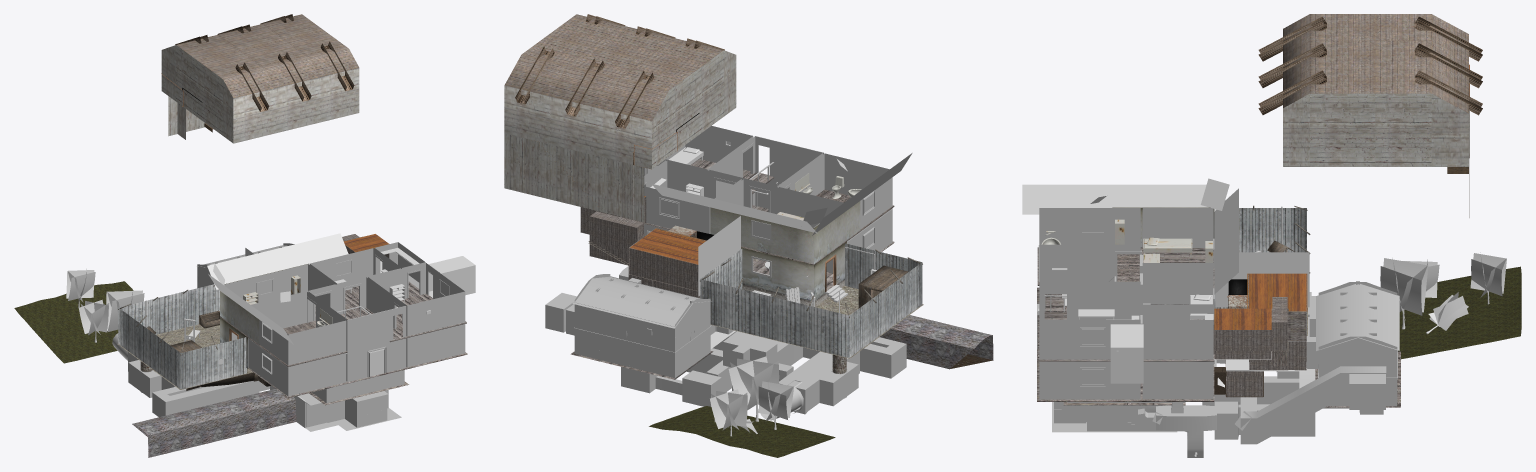
3 views of the same model, side by side, from view 1: azimuth 30°, elevation 25°; view 2: azimuth 150°, elevation 25°; view 3: azimuth 270°, elevation 25° (orthographic). The views are drawn at different scales.
Visible parts, largest first — view 1: Combined_Mesh (root: scene) 12_13, Combined_Mesh (root: scene) 6_7, Combined_Mesh (root: scene) 18_1, Combined_Mesh (root: scene) 24_1, Combined_Mesh (root: scene) 12_9, Combined_Mesh (root: scene) 10_0, Combined_Mesh (root: scene) 23_4, Combined_Mesh (root: scene) 12_7, Combined_Mesh (root: scene) 8_17, Combined_Mesh (root: scene) 8_8, Combined_Mesh (root: scene) 12_4, Combined_Mesh (root: scene) 12_3 (+6 smaller); view 2: Combined_Mesh (root: scene) 6_7, Combined_Mesh (root: scene) 18_1, Combined_Mesh (root: scene) 12_13, Combined_Mesh (root: scene) 24_0, Combined_Mesh (root: scene) 10_0, Combined_Mesh (root: scene) 8_5, Combined_Mesh (root: scene) 12_9, Combined_Mesh (root: scene) 24_1, Combined_Mesh (root: scene) 23_4, Combined_Mesh (root: scene) 12_2, Combined_Mesh (root: scene) 23_3, Combined_Mesh (root: scene) 8_17 (+5 smaller); view 3: Combined_Mesh (root: scene) 6_7, Combined_Mesh (root: scene) 12_13, Combined_Mesh (root: scene) 10_0, Combined_Mesh (root: scene) 8_5, Combined_Mesh (root: scene) 24_0, Combined_Mesh (root: scene) 12_9, Combined_Mesh (root: scene) 23_1, Combined_Mesh (root: scene) 8_17, Combined_Mesh (root: scene) 18_1, Combined_Mesh (root: scene) 12_7, Combined_Mesh (root: scene) 23_4, Combined_Mesh (root: scene) 8_8 (+7 smaller).
Boxes of the visible parts, x1,y1,x2,y2 form: Combined_Mesh (root: scene) 12_13: (224, 242, 465, 402); Combined_Mesh (root: scene) 6_7: (161, 14, 359, 143); Combined_Mesh (root: scene) 18_1: (117, 263, 308, 390); Combined_Mesh (root: scene) 24_1: (132, 389, 296, 457); Combined_Mesh (root: scene) 12_9: (14, 281, 133, 363); Combined_Mesh (root: scene) 10_0: (112, 333, 269, 417); Combined_Mesh (root: scene) 23_4: (207, 233, 348, 289); Combined_Mesh (root: scene) 12_7: (299, 390, 401, 431); Combined_Mesh (root: scene) 8_17: (220, 282, 467, 405); Combined_Mesh (root: scene) 8_8: (426, 256, 475, 314); Combined_Mesh (root: scene) 12_4: (79, 299, 109, 335); Combined_Mesh (root: scene) 12_3: (66, 269, 95, 302); Combined_Mesh (root: scene) 6_7: (504, 14, 736, 222); Combined_Mesh (root: scene) 18_1: (700, 201, 923, 373); Combined_Mesh (root: scene) 12_13: (644, 125, 892, 277); Combined_Mesh (root: scene) 24_0: (572, 274, 736, 377); Combined_Mesh (root: scene) 10_0: (545, 266, 906, 420); Combined_Mesh (root: scene) 8_5: (580, 196, 713, 297); Combined_Mesh (root: scene) 12_9: (649, 406, 835, 457); Combined_Mesh (root: scene) 24_1: (880, 315, 993, 369); Combined_Mesh (root: scene) 23_4: (651, 183, 817, 233); Combined_Mesh (root: scene) 12_2: (728, 356, 779, 410); Combined_Mesh (root: scene) 23_3: (698, 216, 740, 296); Combined_Mesh (root: scene) 8_17: (645, 159, 894, 290); Combined_Mesh (root: scene) 6_7: (1258, 14, 1482, 217); Combined_Mesh (root: scene) 12_13: (1037, 208, 1214, 402); Combined_Mesh (root: scene) 10_0: (1138, 292, 1386, 457); Combined_Mesh (root: scene) 8_5: (1213, 273, 1307, 397); Combined_Mesh (root: scene) 24_0: (1306, 281, 1399, 406); Combined_Mesh (root: scene) 12_9: (1398, 266, 1521, 359); Combined_Mesh (root: scene) 23_1: (1022, 184, 1216, 214); Combined_Mesh (root: scene) 8_17: (1037, 247, 1214, 405); Combined_Mesh (root: scene) 18_1: (1112, 205, 1310, 335); Combined_Mesh (root: scene) 12_7: (1052, 402, 1177, 432); Combined_Mesh (root: scene) 23_4: (1214, 188, 1238, 294); Combined_Mesh (root: scene) 8_8: (1038, 308, 1143, 383).
Size of the model in its own units: 74.93 by 64.39 by 76.33.
